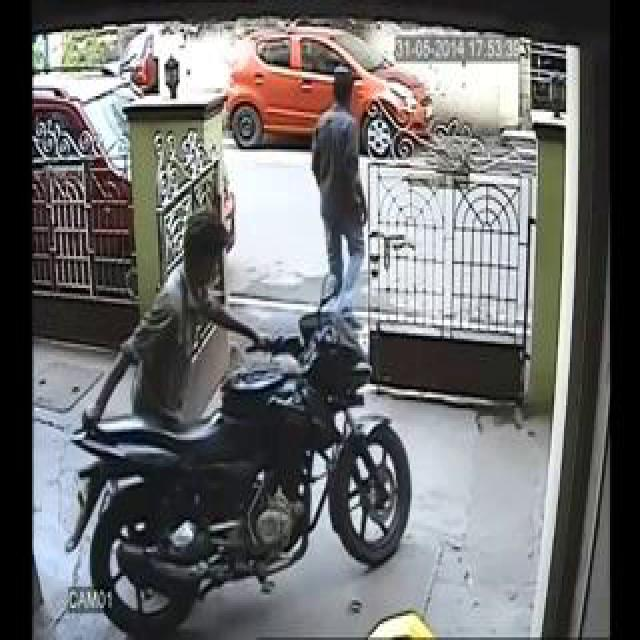stealing: (67, 15, 408, 640)
